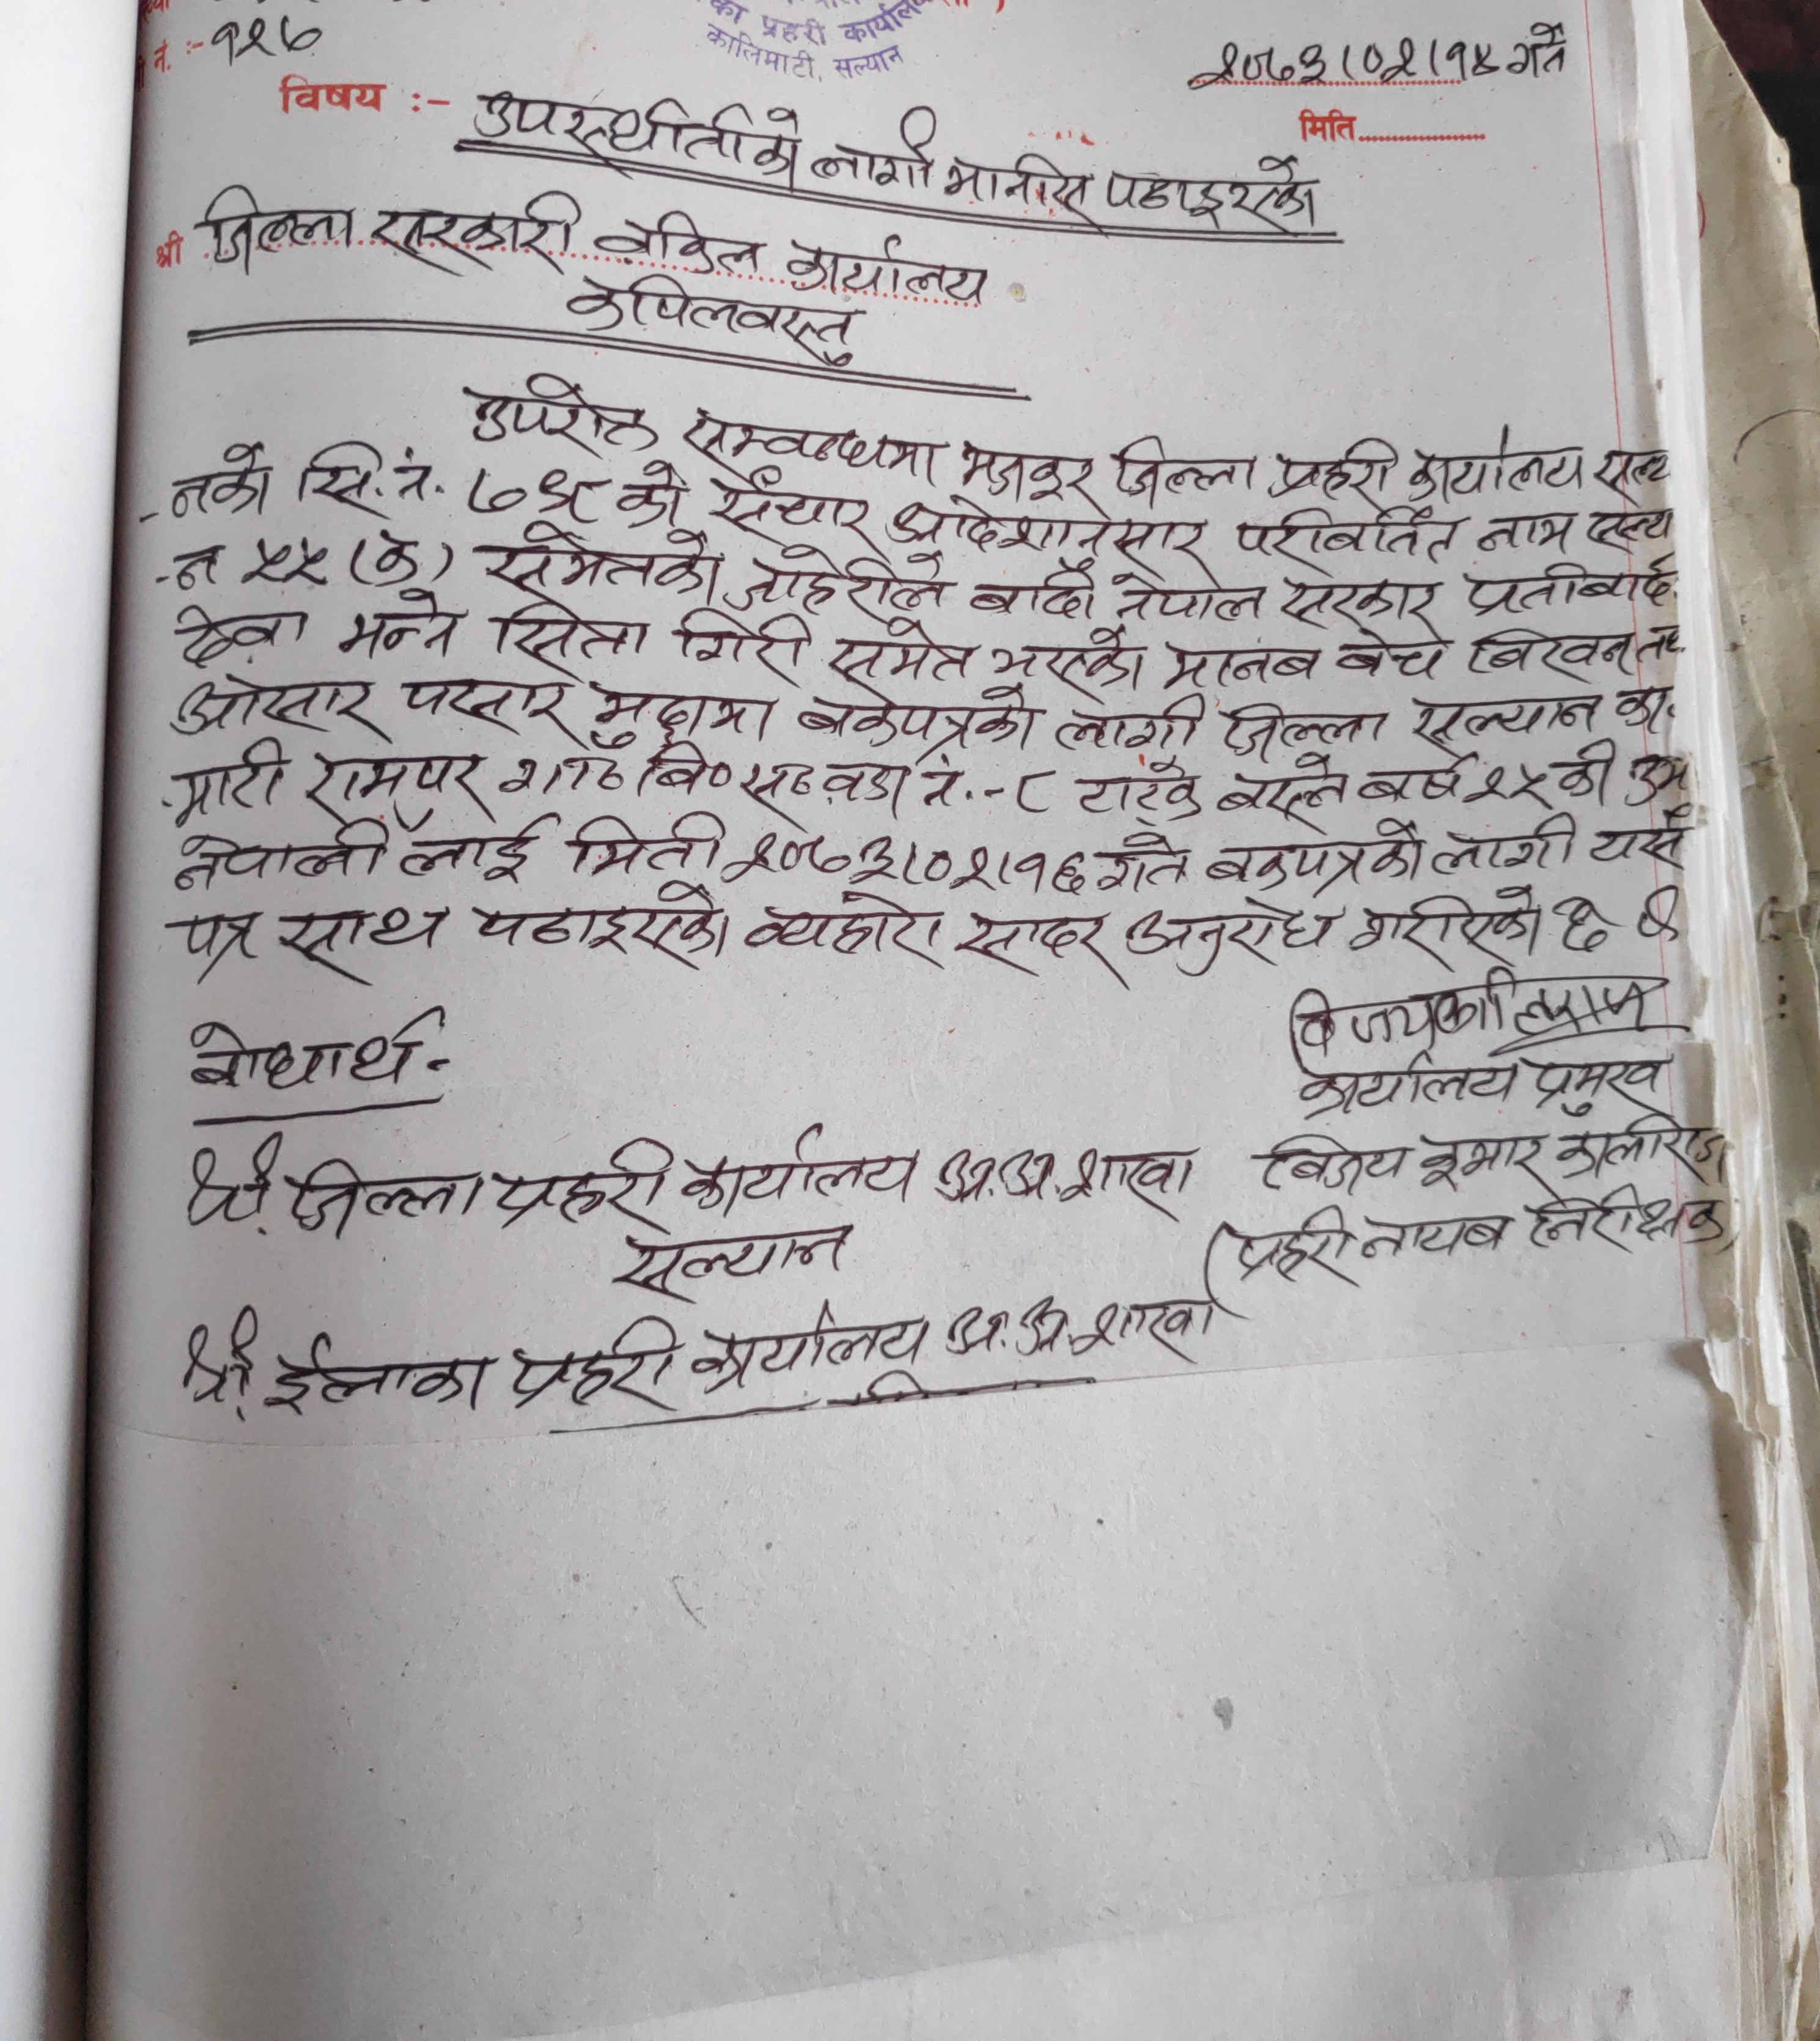text: (1284, 963, 1667, 1054), (473, 84, 803, 183), (562, 274, 859, 369), (184, 998, 450, 1094), (726, 829, 1086, 898), (685, 1295, 931, 1391), (473, 880, 731, 971), (885, 494, 1221, 564), (683, 400, 938, 487), (1184, 25, 1500, 91), (680, 1124, 915, 1214), (264, 1335, 495, 1421), (483, 523, 729, 602), (501, 1312, 678, 1421), (485, 1133, 680, 1231), (367, 188, 583, 276), (1121, 894, 1340, 978), (611, 1226, 857, 1298), (1109, 155, 1323, 237), (785, 228, 996, 309), (741, 891, 943, 975), (1203, 815, 1432, 889), (791, 690, 1042, 757), (169, 817, 390, 892), (460, 372, 662, 455), (292, 1154, 485, 1240), (1233, 502, 1463, 574), (1291, 1047, 1520, 1119), (733, 546, 952, 618), (195, 177, 357, 272), (1346, 885, 1546, 961), (945, 906, 1117, 992), (1523, 1184, 1729, 1256), (300, 748, 499, 819), (167, 669, 381, 732), (627, 741, 815, 813), (1405, 423, 1585, 499), (592, 674, 778, 746), (1463, 559, 1681, 620), (399, 666, 580, 739), (276, 905, 451, 980), (589, 204, 766, 278), (812, 100, 942, 198), (1556, 1112, 1729, 1186), (1405, 689, 1613, 748), (711, 474, 875, 548), (397, 815, 555, 891), (1052, 1140, 1203, 1219), (295, 437, 448, 515), (488, 597, 648, 671), (169, 732, 286, 827), (183, 1129, 286, 1237), (822, 617, 973, 689), (1070, 1293, 1216, 1367), (945, 149, 1098, 220), (678, 599, 812, 678), (559, 810, 724, 873), (1114, 432, 1258, 504), (956, 437, 1096, 511), (1230, 1201, 1353, 1286), (179, 1302, 262, 1426), (1212, 697, 1390, 755), (991, 624, 1151, 687), (1052, 692, 1212, 755), (1465, 620, 1637, 678), (1214, 748, 1353, 819), (1270, 574, 1437, 632), (337, 588, 462, 664), (1418, 1129, 1553, 1198), (165, 441, 276, 523), (1258, 1131, 1411, 1191), (170, 601, 309, 666), (460, 460, 604, 522), (1103, 567, 1270, 620), (1070, 757, 1209, 819), (1268, 437, 1402, 501), (1428, 815, 1576, 871), (943, 1293, 1070, 1358), (964, 567, 1100, 625), (1360, 1210, 1511, 1261), (497, 745, 622, 806), (1530, 1057, 1662, 1115), (931, 1142, 1052, 1203), (1159, 641, 1325, 685), (1332, 627, 1448, 687), (170, 908, 262, 984), (1091, 827, 1193, 894), (1588, 810, 1694, 873), (1353, 750, 1467, 806), (209, 18, 330, 69), (241, 532, 334, 592), (1581, 501, 1679, 555), (613, 455, 689, 525), (815, 761, 910, 813), (1474, 508, 1579, 553), (1506, 18, 1576, 83), (1588, 444, 1676, 495), (1555, 891, 1618, 959), (1555, 736, 1613, 810), (1470, 755, 1551, 808), (915, 750, 977, 815), (1609, 682, 1672, 736), (374, 529, 427, 590), (169, 545, 225, 595), (1010, 764, 1059, 819)
